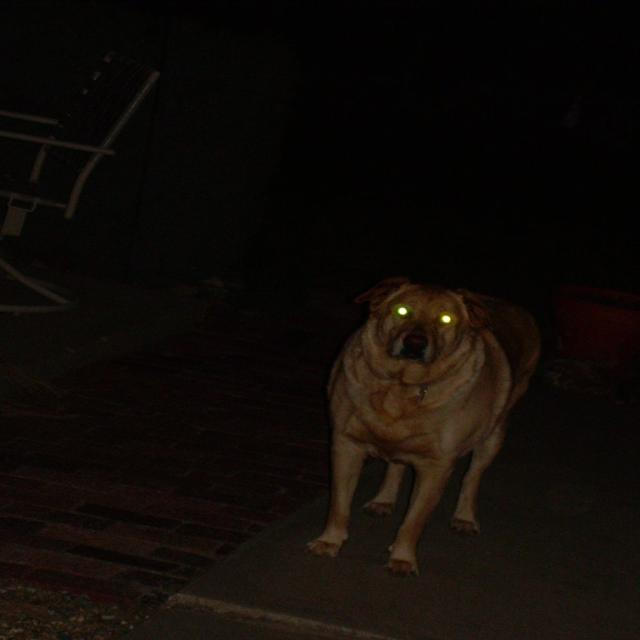Dog: (313, 246, 566, 591)
